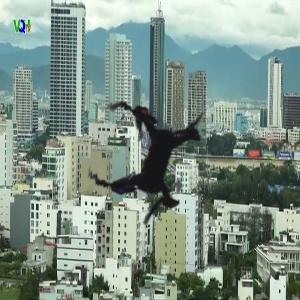drone: (40, 52, 266, 278)
